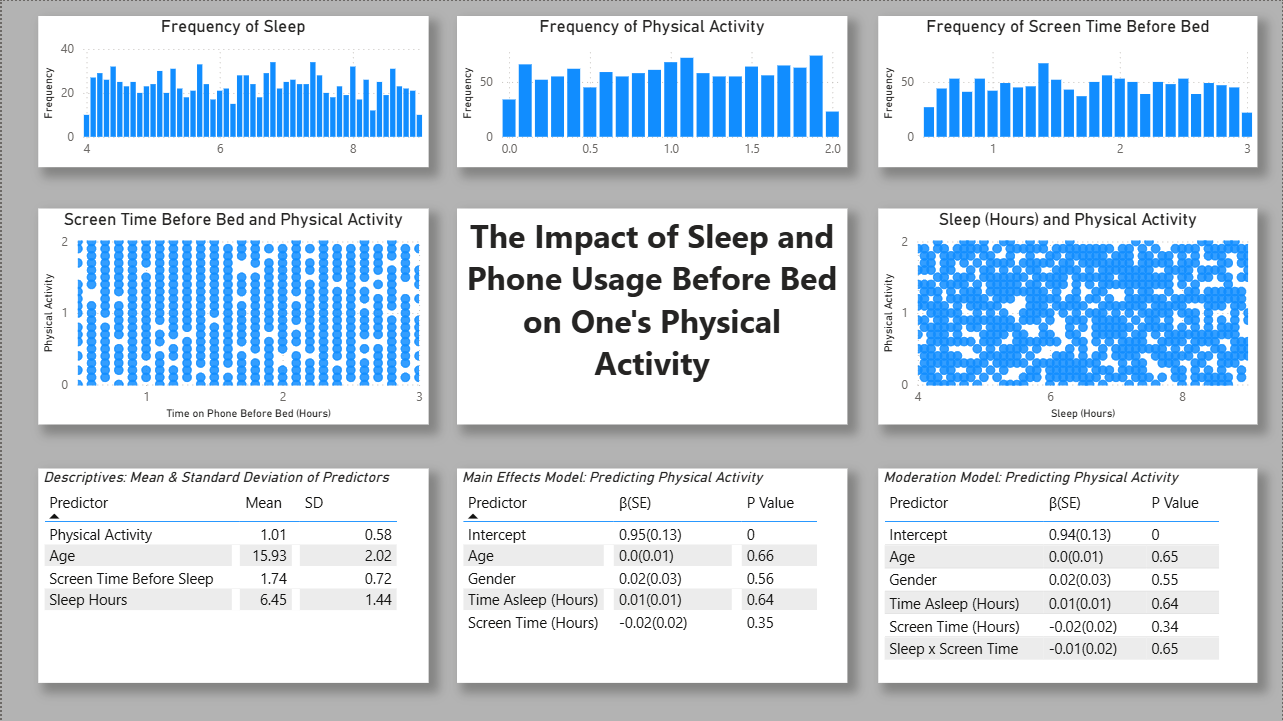

Layout of this report page (visuals, bound fields, positions):
{"tool":"powerbi","page":{"name":"Technical Dashboard","canvas":[1280,720],"ordinal":1},"visuals":[{"type":"columnChart","title":"Frequency of Physical Activity","fields":{"Y":["CountNonNull(teen_health.physical_activity)"],"Category":["teen_health.physical_activity"]},"box":[455,15,390,151],"z":0},{"type":"columnChart","title":"Frequency of Screen Time Before Bed","fields":{"Y":["CountNonNull(teen_health.screen_time_before_sleep)"],"Category":["teen_health.screen_time_before_sleep"]},"box":[876,15,379,151],"z":1000},{"type":"columnChart","title":"Frequency of Sleep","fields":{"Y":["CountNonNull(teen_health.sleep_hours)"],"Category":["teen_health.sleep_hours"]},"box":[36,15,390,151],"z":2000},{"type":"textbox","box":[455,208,390,216],"z":3000},{"type":"scatterChart","title":"Screen Time Before Bed and Physical Activity","fields":{"Y":["teen_health.physical_activity"],"X":["teen_health.screen_time_before_sleep"]},"box":[36,208,390,216],"z":4000},{"type":"scatterChart","fields":{"Y":["teen_health.physical_activity"],"X":["teen_health.sleep_hours"]},"box":[876,208,379,216],"z":5000},{"type":"tableEx","title":"Main Effects Model: Predicting Physical Activity","fields":{"Values":["model1_coef.Predictor","model1_coef.β(SE)","model1_coef.P Value"]},"box":[455,467,390,214],"z":6000},{"type":"tableEx","title":"Moderation Model: Predicting Physical Activity","fields":{"Values":["model2_coef.Predictor","model2_coef.β(SE)","model2_coef.P Value"]},"box":[876,467,379,214],"z":7000},{"type":"tableEx","title":"Descriptives: Mean & Standard Deviation of Predictors","fields":{"Values":["descriptives_view.Predictor","descriptives_view.Mean","descriptives_view.SD"]},"box":[36.4,467.3,390,214.5],"z":8000}]}

Visuals, with their boxes in screenshot pixels (x1, y1, x2, y2), scaled from the page's 1280x720 canvas onto the 1283x721 screenshot:
"Frequency of Physical Activity" columnChart: (left=456, top=15, right=847, bottom=166)
"Frequency of Screen Time Before Bed" columnChart: (left=878, top=15, right=1258, bottom=166)
"Frequency of Sleep" columnChart: (left=36, top=15, right=427, bottom=166)
textbox: (left=456, top=208, right=847, bottom=425)
"Screen Time Before Bed and Physical Activity" scatterChart: (left=36, top=208, right=427, bottom=425)
scatterChart - teen_health.physical_activity x teen_health.sleep_hours: (left=878, top=208, right=1258, bottom=425)
"Main Effects Model: Predicting Physical Activity" tableEx: (left=456, top=468, right=847, bottom=682)
"Moderation Model: Predicting Physical Activity" tableEx: (left=878, top=468, right=1258, bottom=682)
"Descriptives: Mean & Standard Deviation of Predictors" tableEx: (left=36, top=468, right=427, bottom=683)
